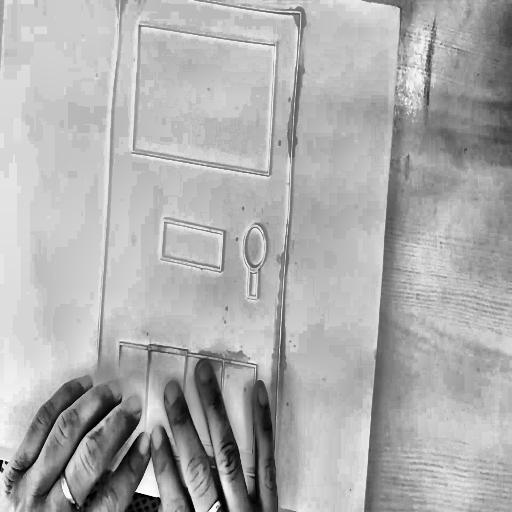door: (84, 0, 309, 492)
top_right: (398, 3, 405, 15)
